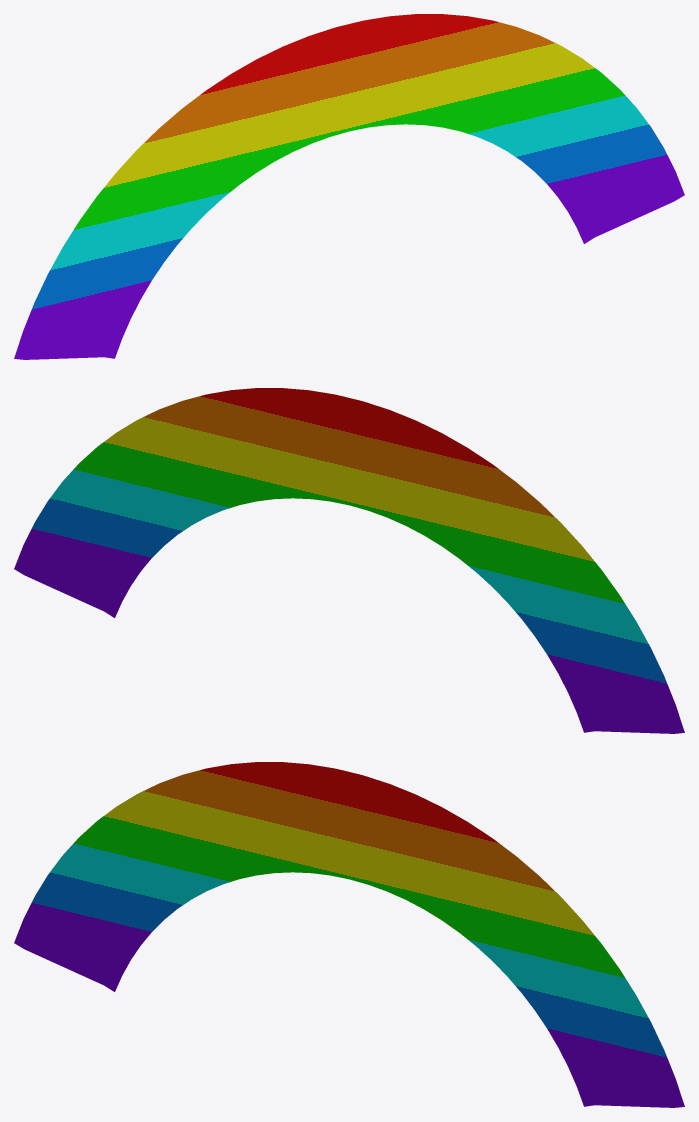
File: bg_rainbow.dae
3 views of the same model, one above another, from view 1: azimuth 30°, elevation 25°; view 2: azimuth 150°, elevation 25°; view 3: azimuth 330°, elevation 25° (orthographic).
Visible parts, largest first — view 1: bg_rainbow; view 2: bg_rainbow; view 3: bg_rainbow.
Part boxes in pixels (x1,y1,x2,y2): bg_rainbow: (14,14,684,359); bg_rainbow: (14,388,684,733); bg_rainbow: (14,762,684,1107).
Size of the model in its own units: 704 by 278 by 0.
1 material, 1 textured.
